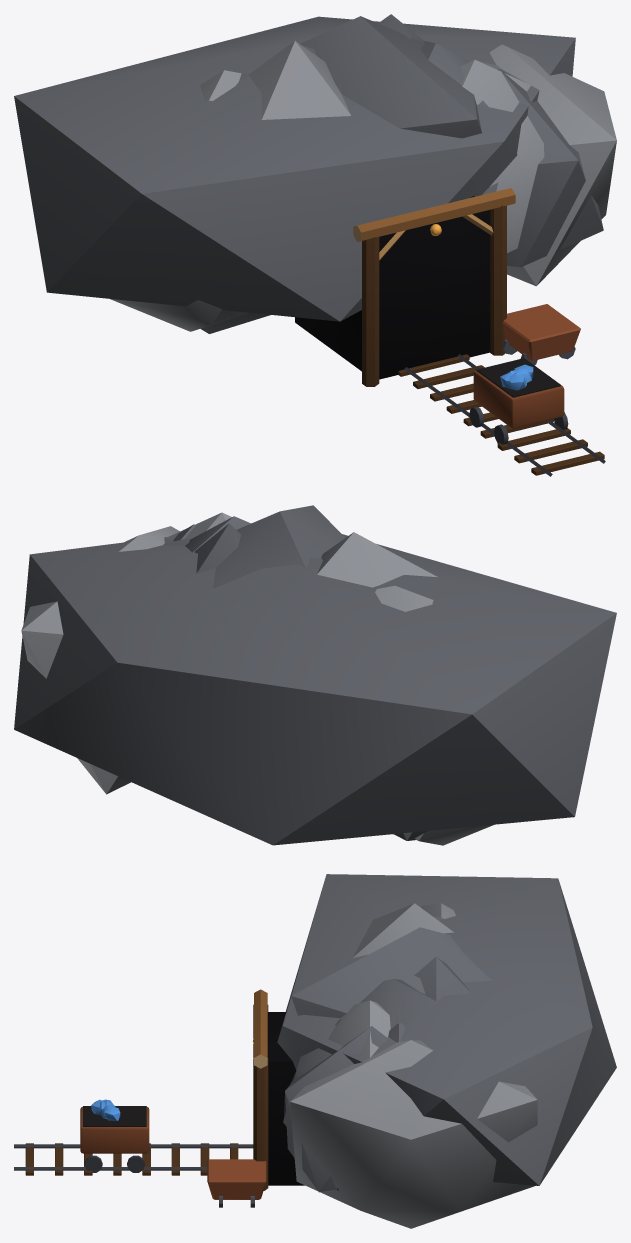
Rendered from mine.glb.
3 views of the same model, one above another, from view 1: azimuth 30°, elevation 25°; view 2: azimuth 150°, elevation 25°; view 3: azimuth 270°, elevation 25° (orthographic). The views are drawn at different scales.
Parts seen in each view (by area): view 1: mine, mine_craft; view 2: mine; view 3: mine, mine_craft.
Boxes of the visible parts, left/top/right/bottom form: mine: left=14, top=14, right=616, bottom=476; mine_craft: left=502, top=304, right=580, bottom=365; mine: left=14, top=505, right=616, bottom=845; mine: left=14, top=874, right=616, bottom=1228; mine_craft: left=207, top=1159, right=266, bottom=1207.
Bounding box in the file's own units: 10.12 × 5.03 × 11.36.
